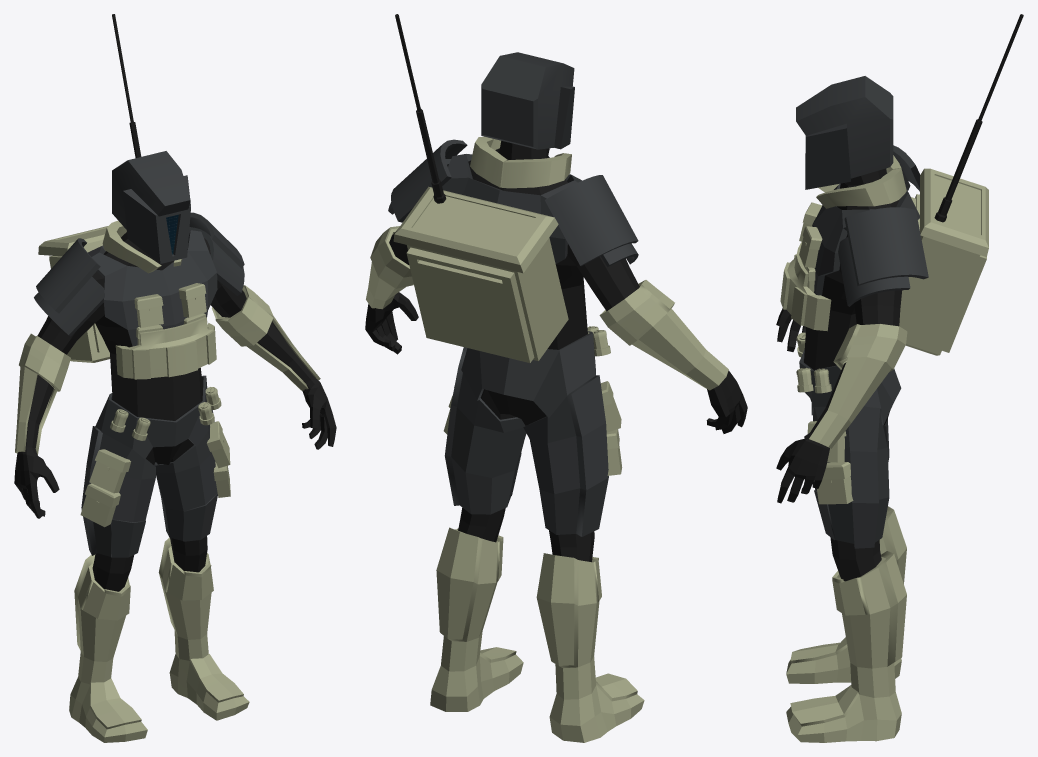
The model's file is droid.obj.
3 renders of one model, left to right at view 1: azimuth 30°, elevation 25°; view 2: azimuth 150°, elevation 25°; view 3: azimuth 270°, elevation 25°, orthographic. The views are drawn at different scales.
Parts seen in each view (by area): view 1: boots_Cylinder.014, base_Cylinder.008, thighs_Cylinder.010, head_Cube.003, chest_Cylinder.012, wrist_Cylinder.013, chest_plate_Cube.006, shoulderplate.001_Cube.009, waist_Cylinder.015, bags_Cube.010, backpack_Cube.008, shoulderplate_Cube.014 (+5 smaller); view 2: boots_Cylinder.014, backpack_Cube.008, thighs_Cylinder.010, base_Cylinder.008, wrist_Cylinder.013, head_Cube.003, waist_Cylinder.015, shoulderplate.001_Cube.009, neck_collar_Cube.004, chest_Cylinder.012, shoulderplate_Cube.014, bags_Cube.010 (+1 smaller); view 3: boots_Cylinder.014, backpack_Cube.008, base_Cylinder.008, head_Cube.003, shoulderplate_Cube.014, thighs_Cylinder.010, wrist_Cylinder.013, chest_plate_Cube.006, chest_Cylinder.012, neck_collar_Cube.004, bags.001_Cube.013, waist_Cylinder.015 (+4 smaller).
Part boxes in pixels (x1=…): boots_Cylinder.014: x1=69, y1=537, x2=249, y2=742; base_Cylinder.008: x1=14, y1=232, x2=336, y2=591; thighs_Cylinder.010: x1=81, y1=410, x2=217, y2=557; head_Cube.003: x1=112, y1=151, x2=190, y2=263; chest_Cylinder.012: x1=88, y1=230, x2=217, y2=346; wrist_Cylinder.013: x1=15, y1=285, x2=320, y2=454; chest_plate_Cube.006: x1=115, y1=317, x2=216, y2=379; shoulderplate.001_Cube.009: x1=34, y1=238, x2=104, y2=336; waist_Cylinder.015: x1=95, y1=375, x2=208, y2=459; bags_Cube.010: x1=80, y1=449, x2=130, y2=527; backpack_Cube.008: x1=38, y1=226, x2=110, y2=362; shoulderplate_Cube.014: x1=189, y1=212, x2=244, y2=295; boots_Cylinder.014: x1=430, y1=527, x2=644, y2=742; backpack_Cube.008: x1=393, y1=186, x2=568, y2=362; thighs_Cylinder.010: x1=444, y1=347, x2=608, y2=536; base_Cylinder.008: x1=365, y1=141, x2=747, y2=562; wrist_Cylinder.013: x1=366, y1=226, x2=728, y2=390; head_Cube.003: x1=481, y1=52, x2=574, y2=149; waist_Cylinder.015: x1=461, y1=331, x2=595, y2=417; shoulderplate.001_Cube.009: x1=545, y1=175, x2=638, y2=266; neck_collar_Cube.004: x1=470, y1=136, x2=571, y2=188; chest_Cylinder.012: x1=442, y1=154, x2=581, y2=263; shoulderplate_Cube.014: x1=388, y1=139, x2=467, y2=222; bags_Cube.010: x1=600, y1=381, x2=622, y2=475; boots_Cylinder.014: x1=786, y1=506, x2=906, y2=742; backpack_Cube.008: x1=899, y1=168, x2=988, y2=355; base_Cylinder.008: x1=776, y1=168, x2=902, y2=581; head_Cube.003: x1=796, y1=76, x2=893, y2=189; shoulderplate_Cube.014: x1=838, y1=207, x2=928, y2=306; thighs_Cylinder.010: x1=813, y1=406, x2=889, y2=548; wrist_Cylinder.013: x1=809, y1=324, x2=907, y2=448; chest_plate_Cube.006: x1=780, y1=242, x2=831, y2=331; chest_Cylinder.012: x1=812, y1=183, x2=919, y2=295; neck_collar_Cube.004: x1=816, y1=155, x2=906, y2=208; bags.001_Cube.013: x1=807, y1=421, x2=853, y2=504; waist_Cylinder.015: x1=799, y1=350, x2=901, y2=425.
Bounding box in the file's own units: 2.76 × 5.46 × 1.73.
Materials: 5 (1 with a texture image).
